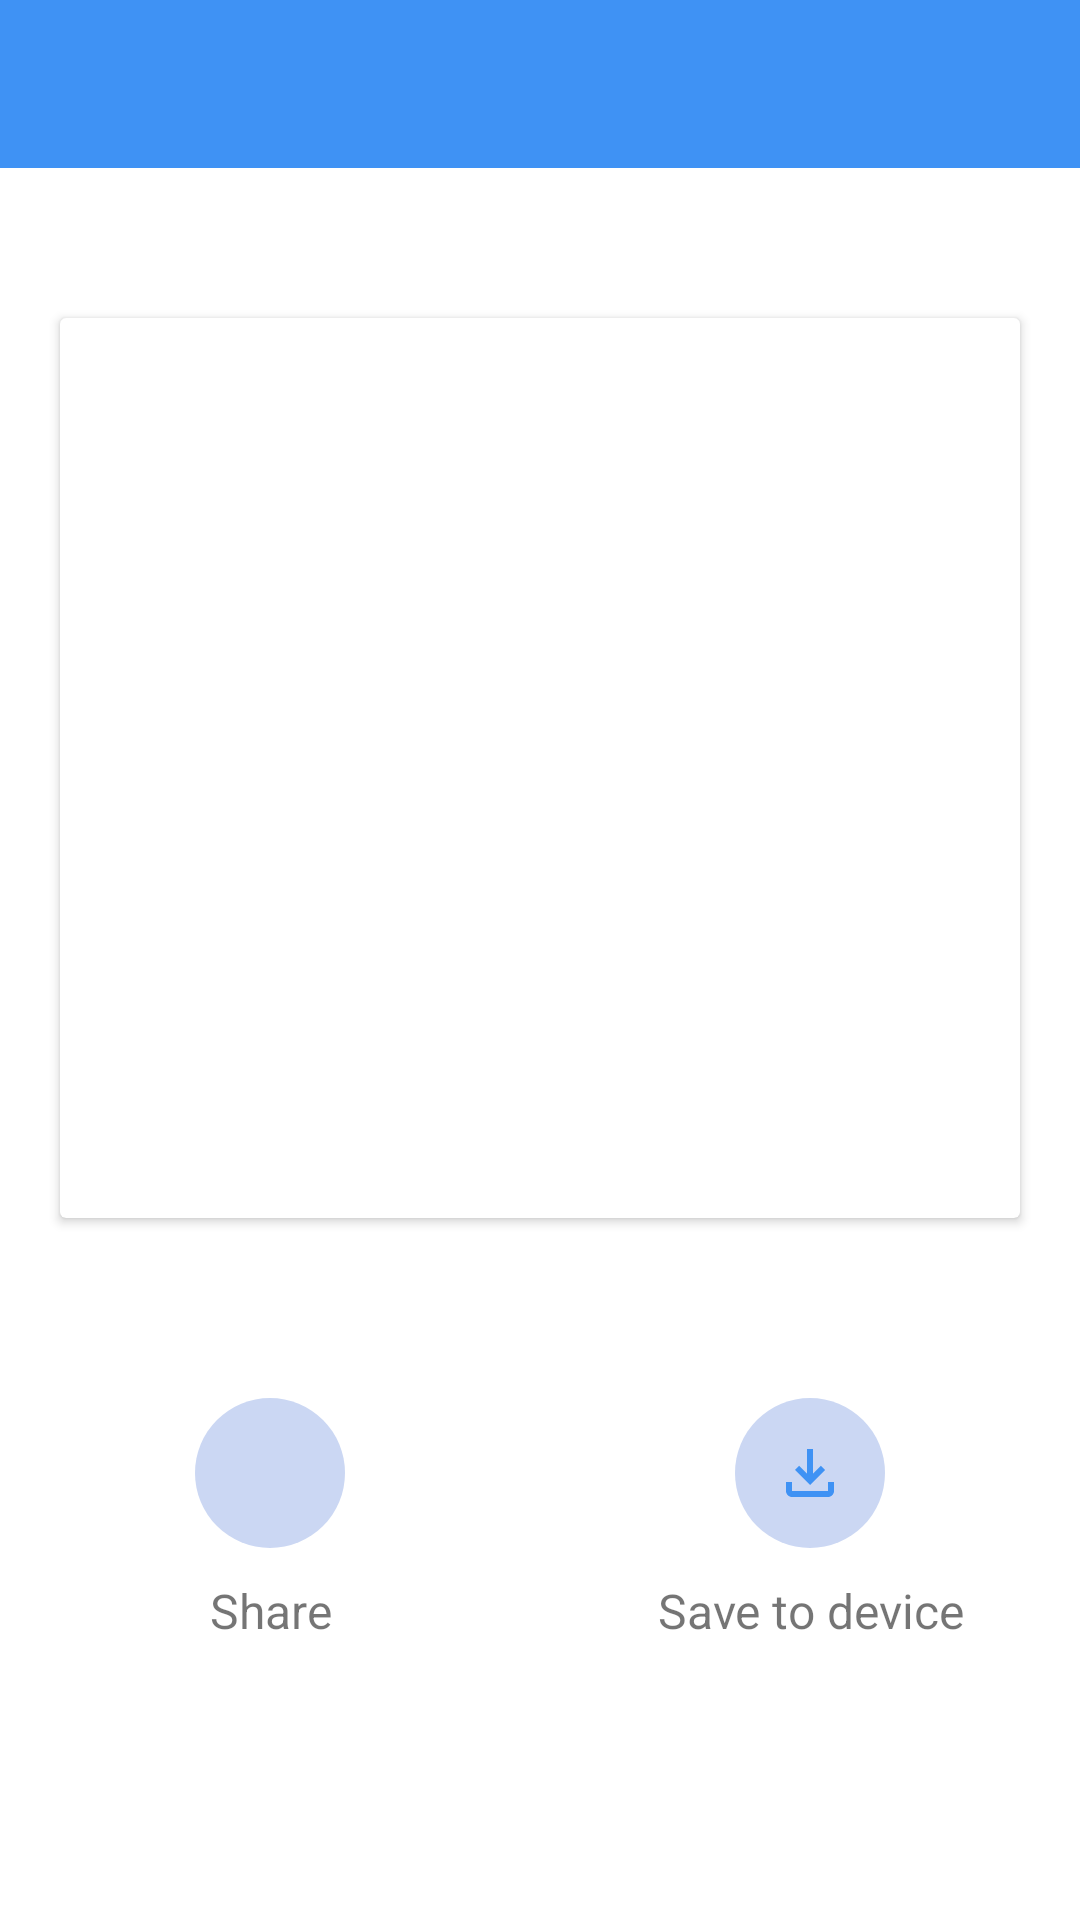

Named icons in this screenshot (1080 × 1920) and their centers, (x,y):
file download: (810,1473)
